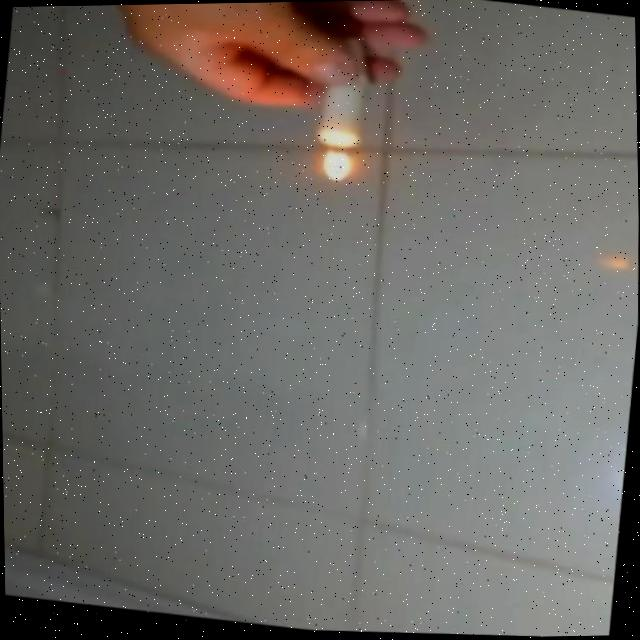fire: (314, 142, 366, 189)
